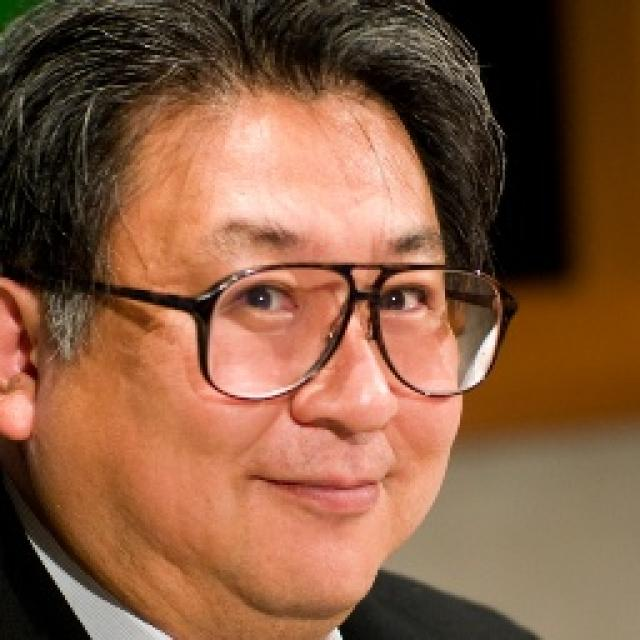earlobe: (0, 275, 42, 442)
